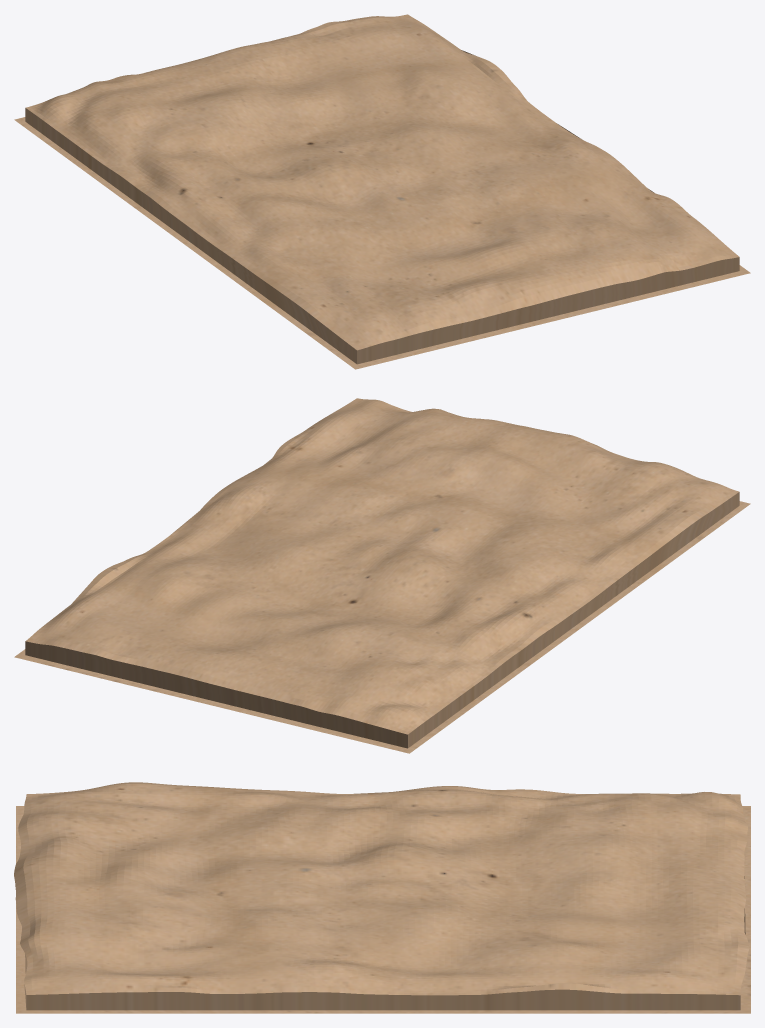
File: sand3.glb
3 renders of one model, top to bottom at view 1: azimuth 30°, elevation 25°; view 2: azimuth 150°, elevation 25°; view 3: azimuth 270°, elevation 25°, orthographic. The views are drawn at different scales.
Visible parts, largest first — view 1: sand; view 2: sand; view 3: sand.
Part boxes in pixels (bbox=[...]): sand: bbox=[14, 14, 750, 369]; sand: bbox=[14, 398, 750, 753]; sand: bbox=[14, 782, 750, 1013].
Size of the model in its own units: 50.41 by 4.19 by 75.57.
Materials: 1 (1 with a texture image).
